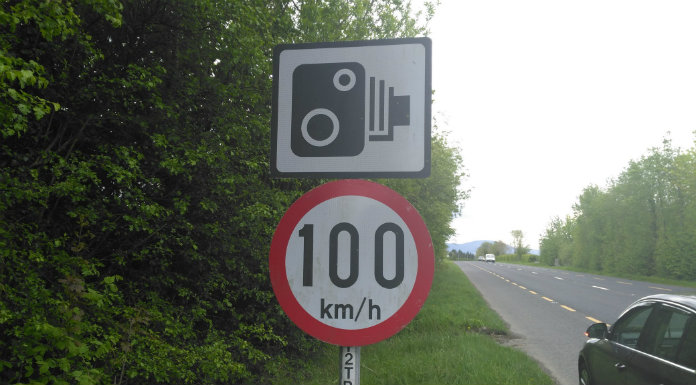Speed_limit_100km: (268, 179, 437, 347)
